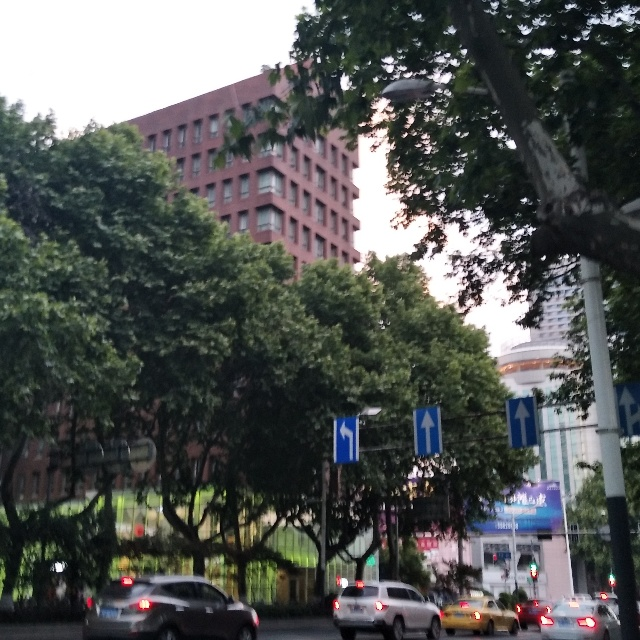left: (334, 419, 357, 463)
straight: (508, 401, 537, 446), (416, 409, 440, 454)
